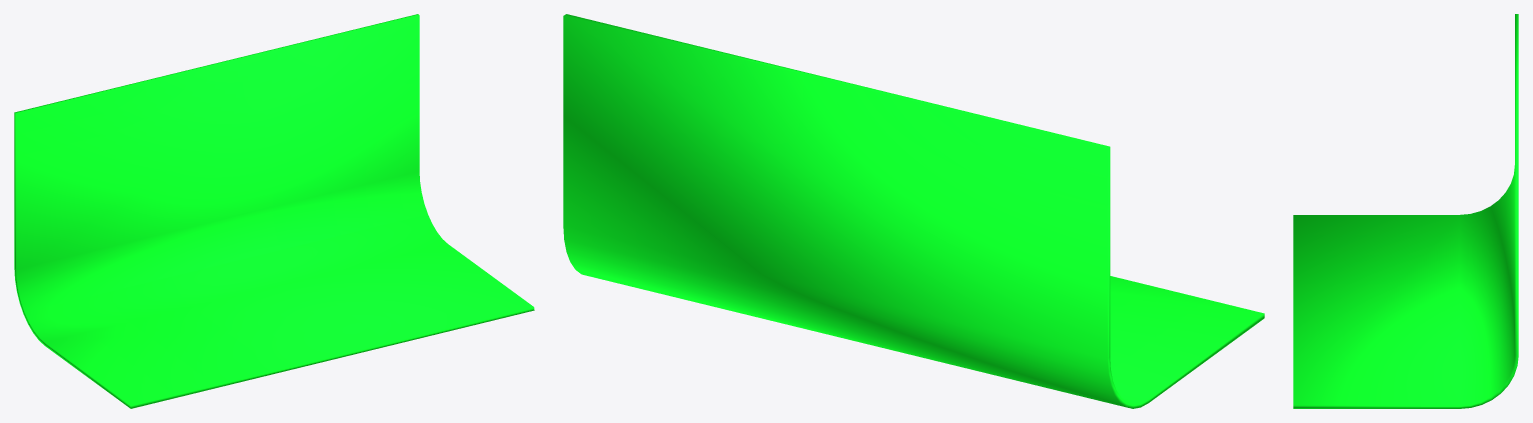
File: GreenScreen.glb
3 renders of one model, left to right at view 1: azimuth 30°, elevation 25°; view 2: azimuth 150°, elevation 25°; view 3: azimuth 270°, elevation 25°, orthographic. The views are drawn at different scales.
Parts seen in each view (by area): view 1: GreenScreenWide; view 2: GreenScreenWide; view 3: GreenScreenWide.
Part boxes in pixels (<box>): GreenScreenWide: <box>14,14,534,408</box>; GreenScreenWide: <box>563,14,1264,408</box>; GreenScreenWide: <box>1293,14,1518,408</box>.
Size of the model in its own units: 8 by 4 by 4.
1 material, 1 textured.
